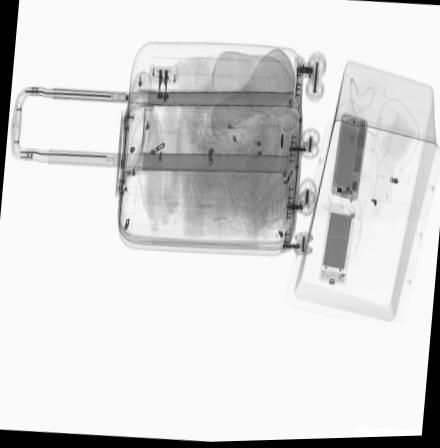Powerbank: (319, 209, 356, 289)
